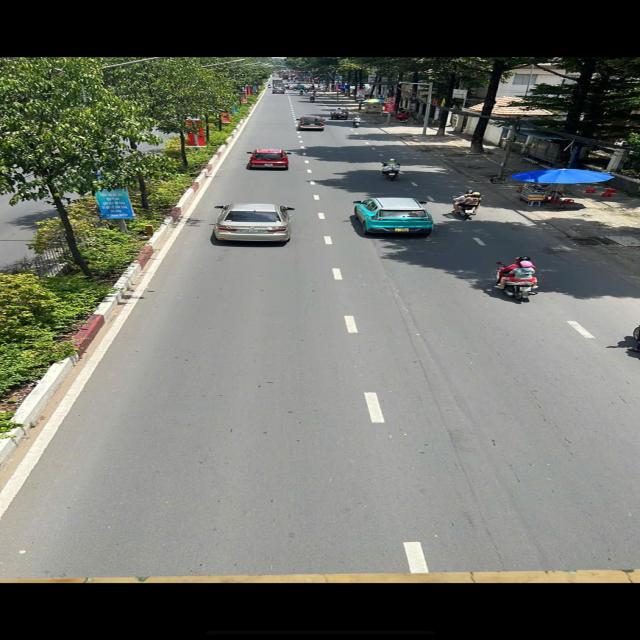car: (354, 198, 434, 237), (215, 202, 293, 242), (251, 149, 288, 170), (300, 116, 325, 130), (272, 89, 285, 94)
motobyte: (495, 258, 540, 302), (451, 190, 479, 219), (376, 157, 401, 181), (353, 116, 362, 128), (307, 96, 316, 103), (299, 91, 303, 95), (315, 93, 319, 97), (305, 89, 308, 92)
non-motorized vehicle: (330, 108, 350, 120)
